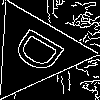D: (10, 26, 76, 82)
